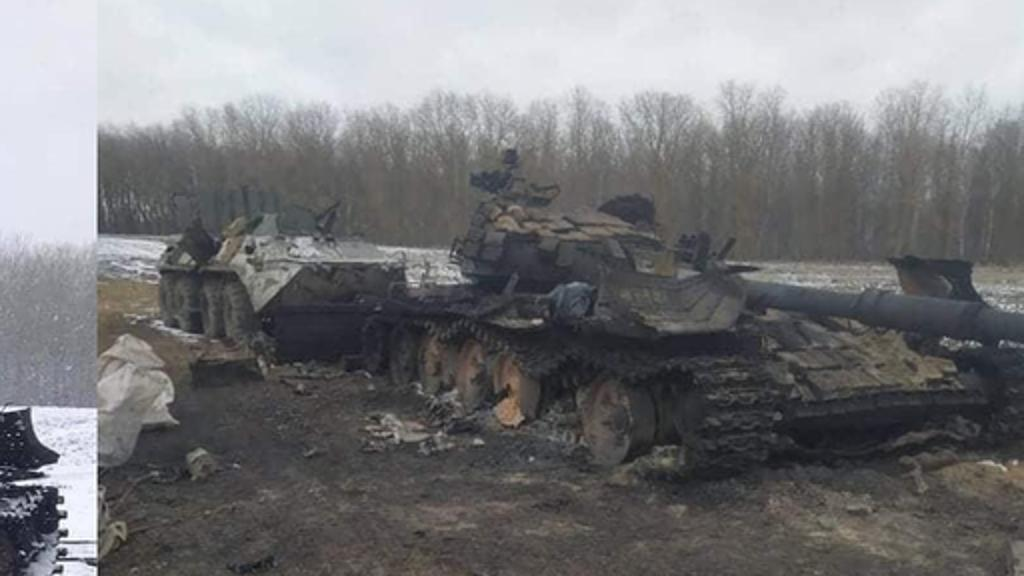APC-IFV: (150, 200, 404, 350)
TANK: (354, 164, 1020, 484)
